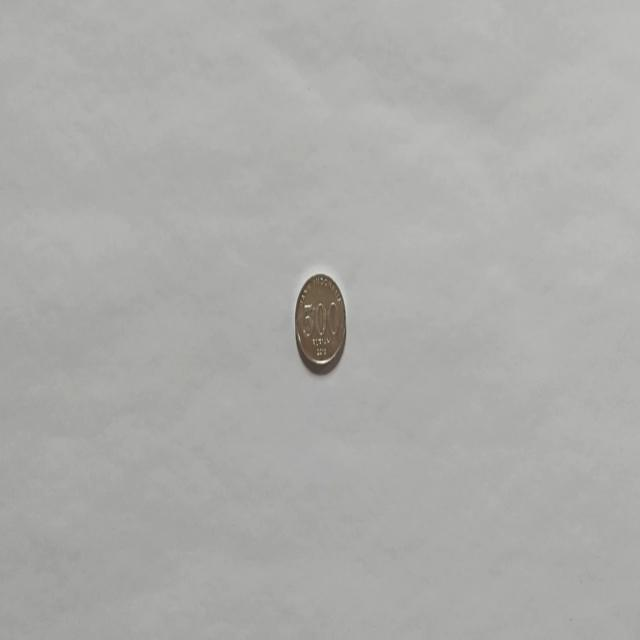lima ratus rupiah: (294, 271, 346, 374)
